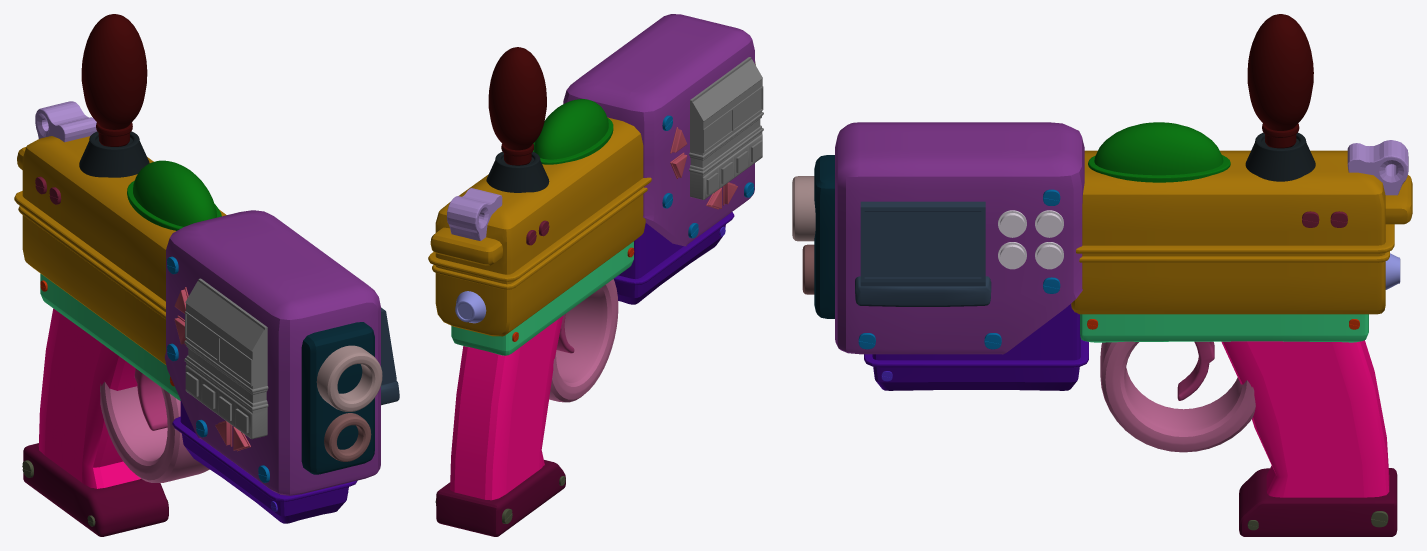
File: pistol.FBX
3 renders of one model, left to right at view 1: azimuth 30°, elevation 25°; view 2: azimuth 150°, elevation 25°; view 3: azimuth 270°, elevation 25°, orthographic. The views are drawn at different scales.
Parts seen in each view (by area): view 1: Box001, Box003, Box004, Box032, Sphere001, Box007, Box006, Cylinder001, Sphere003, Box002, Box005, Cylinder011 (+7 smaller); view 2: Box003, Box001, Box004, Box032, Sphere001, Cylinder001, Box006, Box002, Box005, Sphere003, Cylinder010, Cylinder004 (+3 smaller); view 3: Box003, Box001, Box004, Box008, Box002, Cylinder001, Box005, Box006, Sphere001, Sphere003, Box007, Cylinder009 (+5 smaller).
Part boxes in pixels (x1=…): Box001: x1=164, y1=210, x2=380, y2=495; Box003: x1=14, y1=136, x2=226, y2=364; Box004: x1=38, y1=308, x2=140, y2=488; Box032: x1=184, y1=278, x2=268, y2=439; Sphere001: x1=81, y1=14, x2=147, y2=146; Box007: x1=301, y1=322, x2=374, y2=474; Box006: x1=23, y1=443, x2=168, y2=536; Cylinder001: x1=100, y1=381, x2=209, y2=482; Sphere003: x1=127, y1=160, x2=221, y2=230; Box002: x1=172, y1=400, x2=357, y2=523; Box005: x1=40, y1=273, x2=180, y2=400; Cylinder011: x1=316, y1=345, x2=382, y2=411; Box003: x1=428, y1=117, x2=651, y2=336; Box001: x1=563, y1=14, x2=754, y2=246; Box004: x1=450, y1=316, x2=562, y2=500; Box032: x1=689, y1=57, x2=763, y2=199; Sphere001: x1=488, y1=47, x2=546, y2=165; Cylinder001: x1=549, y1=279, x2=618, y2=402; Box006: x1=436, y1=460, x2=565, y2=536; Box002: x1=614, y1=212, x2=734, y2=304; Box005: x1=451, y1=241, x2=633, y2=355; Sphere003: x1=533, y1=99, x2=613, y2=164; Cylinder010: x1=447, y1=188, x2=502, y2=240; Cylinder004: x1=486, y1=151, x2=549, y2=192; Box003: x1=1071, y1=150, x2=1412, y2=314; Box001: x1=835, y1=122, x2=1084, y2=354; Box004: x1=1221, y1=340, x2=1389, y2=497; Box008: x1=855, y1=201, x2=991, y2=306; Box002: x1=864, y1=303, x2=1088, y2=390; Cylinder001: x1=1100, y1=341, x2=1255, y2=452; Box005: x1=1080, y1=314, x2=1368, y2=342; Box006: x1=1239, y1=468, x2=1397, y2=536; Sphere001: x1=1247, y1=14, x2=1313, y2=148; Sphere003: x1=1088, y1=122, x2=1230, y2=182; Box007: x1=814, y1=155, x2=834, y2=318; Cylinder009: x1=998, y1=210, x2=1063, y2=269.
Bounding box in the file's own units: 8.2 × 26.37 × 29.31.
